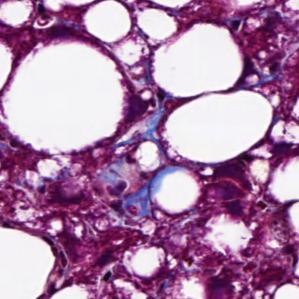inflammation: (210, 162, 255, 218), (252, 6, 296, 53), (40, 173, 85, 213)
